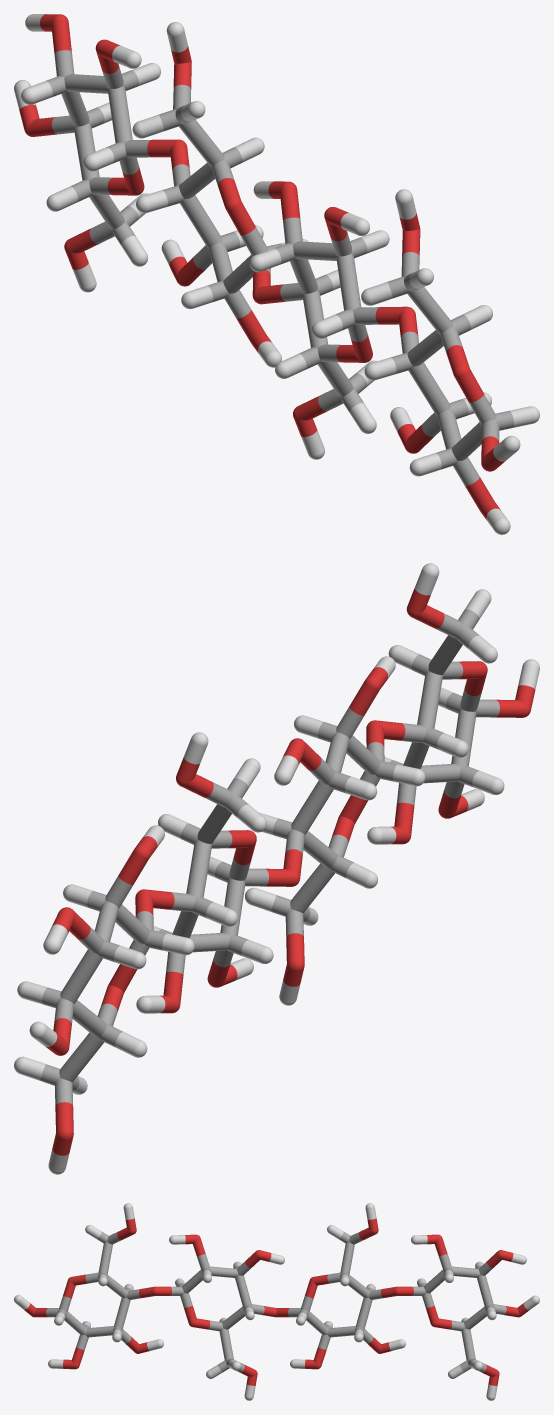
File: cellulose.glb
The picture shows the model from 3 angles, top to bottom: view 1: azimuth 30°, elevation 25°; view 2: azimuth 150°, elevation 25°; view 3: azimuth 270°, elevation 25°; orthographic projection. The views are drawn at different scales.
Parts seen in each view (by area): view 1: bonds, atoms; view 2: bonds, atoms; view 3: bonds, atoms.
Boxes of the visible parts, x1,y1,x2,y2 form: bonds: (14,14,534,529); atoms: (14,14,539,534); bonds: (20,570,539,1171); atoms: (14,563,539,1174); bonds: (16,1207,537,1396); atoms: (14,1203,539,1400).
Size of the model in its own units: 3.51 by 9 by 22.57.
